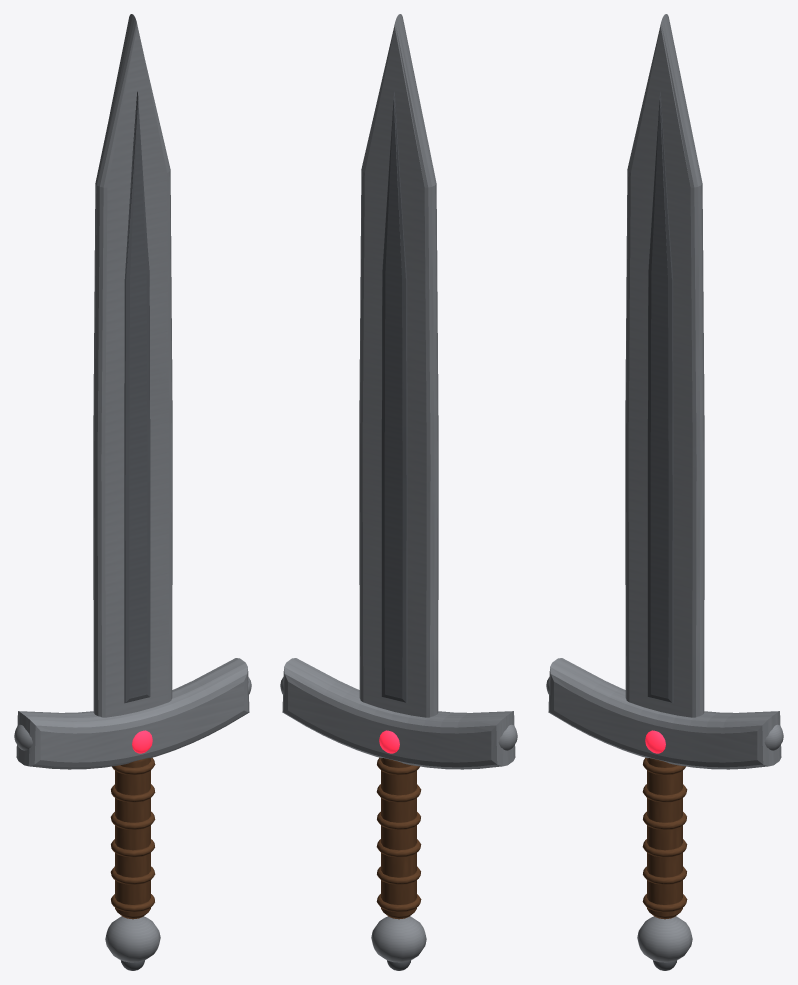
Rendered from sword.glb.
3 views of the same model, side by side, from view 1: azimuth 30°, elevation 25°; view 2: azimuth 150°, elevation 25°; view 3: azimuth 330°, elevation 25° (orthographic).
Visible parts, largest first — view 1: blade, guard, grip, pommel; view 2: blade, guard, grip, pommel; view 3: blade, guard, grip, pommel.
Part boxes in pixels (x1,y1,x2,y2): blade: (93,14,172,717); guard: (14,658,251,769); grip: (110,757,155,919); pommel: (105,916,160,970); blade: (359,14,438,717); guard: (280,658,517,769); grip: (376,757,421,919); pommel: (371,916,426,970); blade: (625,14,704,717); guard: (546,658,783,769); grip: (642,757,687,919); pommel: (637,916,692,970).
Bounding box in the file's own units: 0.252 × 0.9873 × 0.0507.
Materials: 4 (3 with a texture image).
